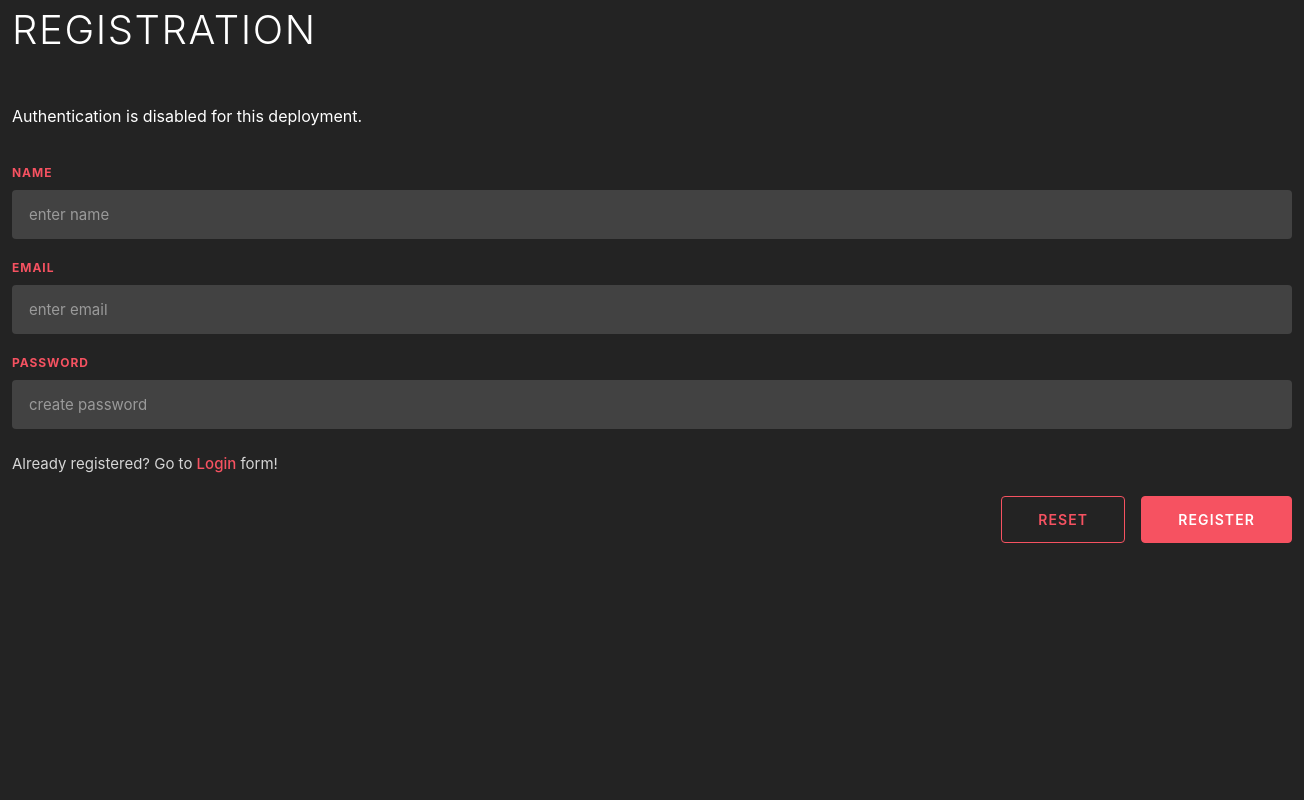
it: UserForm Component › registration form › validates empty fields on form submission
Click the button "REGISTER": (1217, 519) left=1141, top=496, right=1292, bottom=542
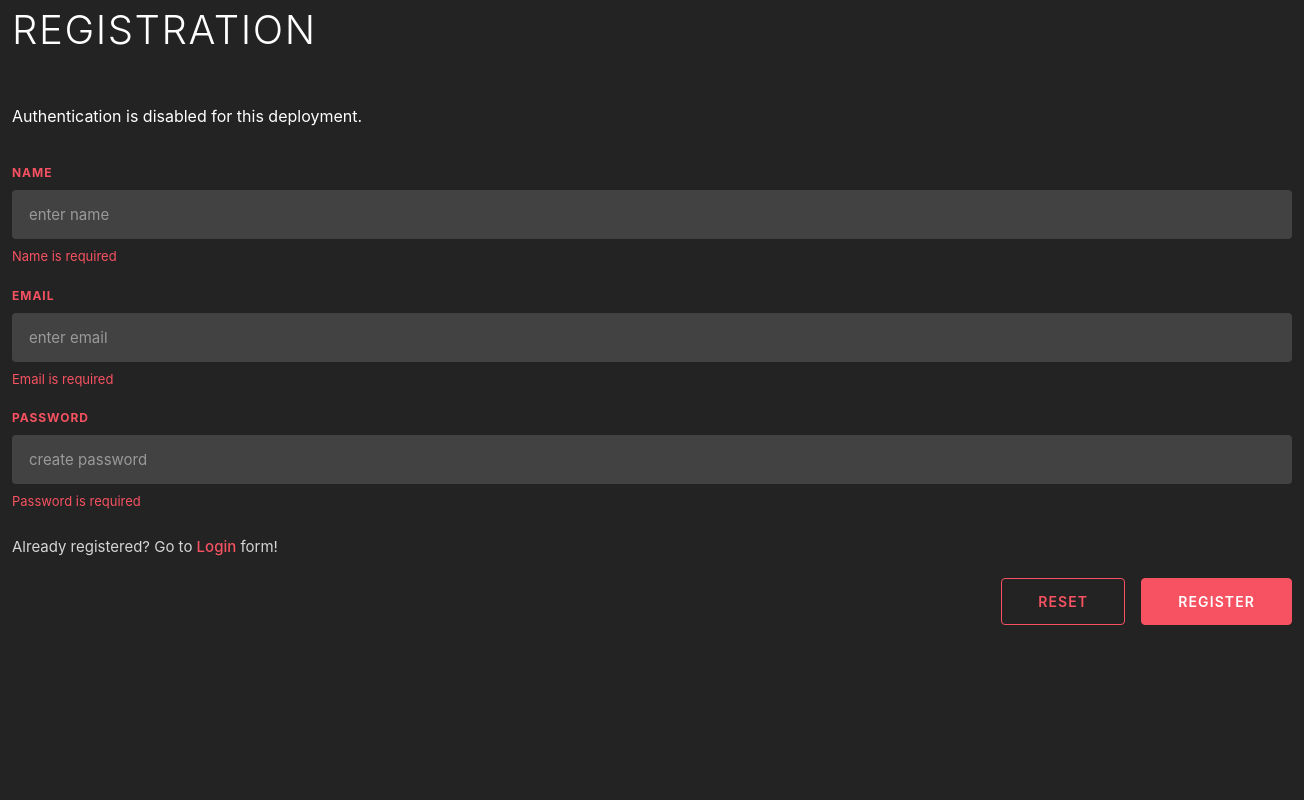
Expected: the text "Name is required" is shown 3 times, left=12, top=248, right=117, bottom=264; left=12, top=370, right=113, bottom=386; left=12, top=493, right=141, bottom=509
